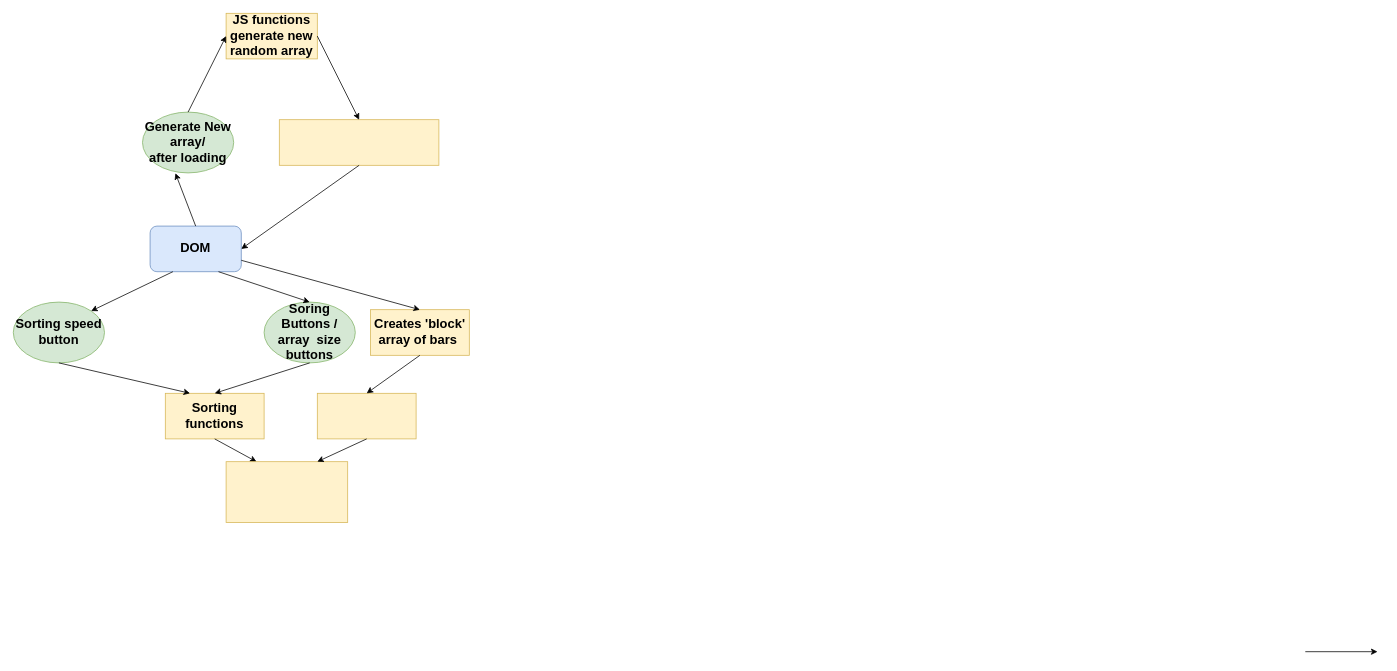
This 1397x671 diagram has some shape labels left out. The shapes that lost their labels are listed below. From the top down, each one's box as (x1, y1, x2, y2) in pixels, then its label:
(279, 119, 439, 165): RenderBars() function adds bars of appropriate height to the screen
(317, 393, 416, 439): Blocks array
(225, 461, 348, 522): Sorting functions change the blocks array for in order to show animations
